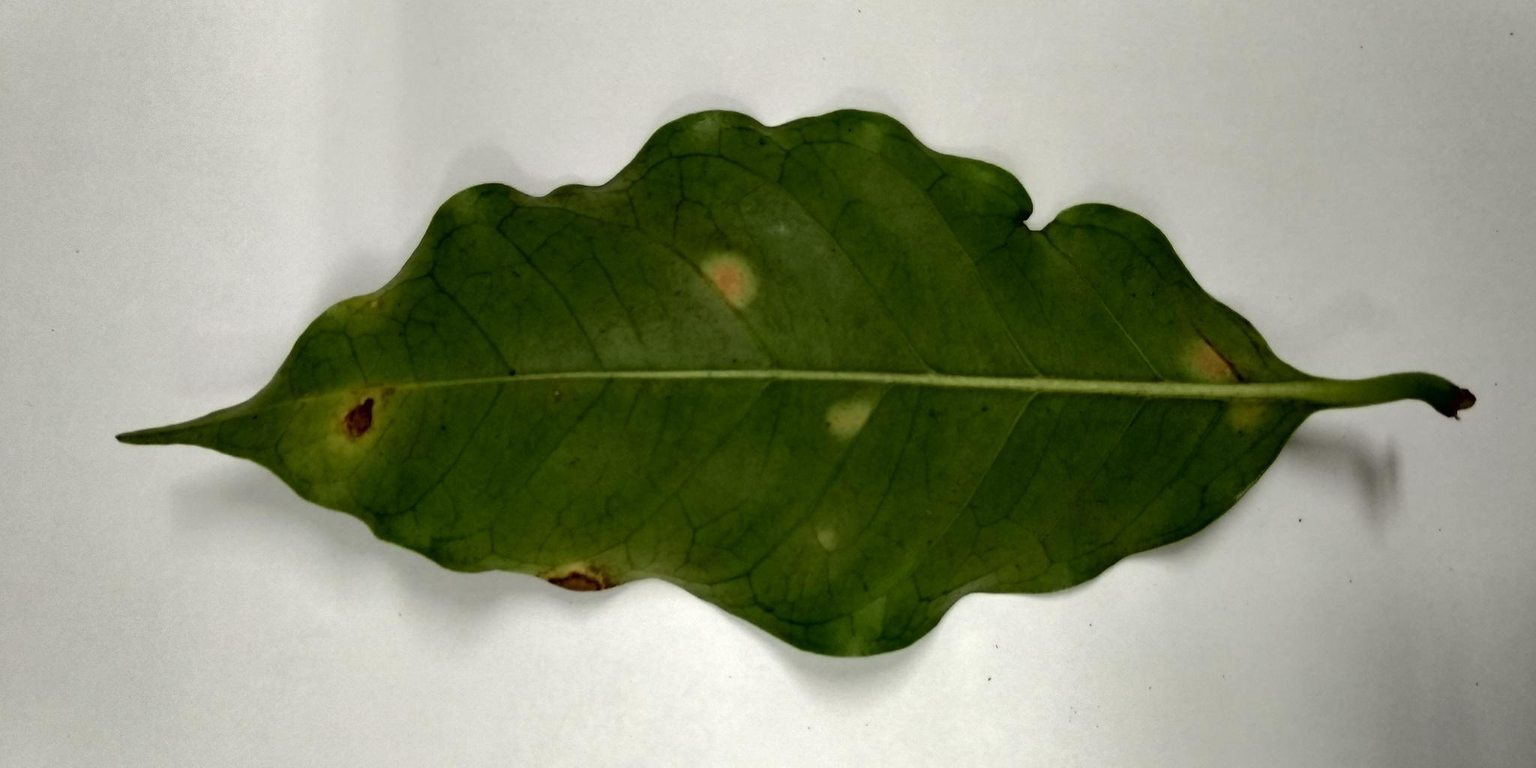Cercospora: (306, 368, 416, 474)
